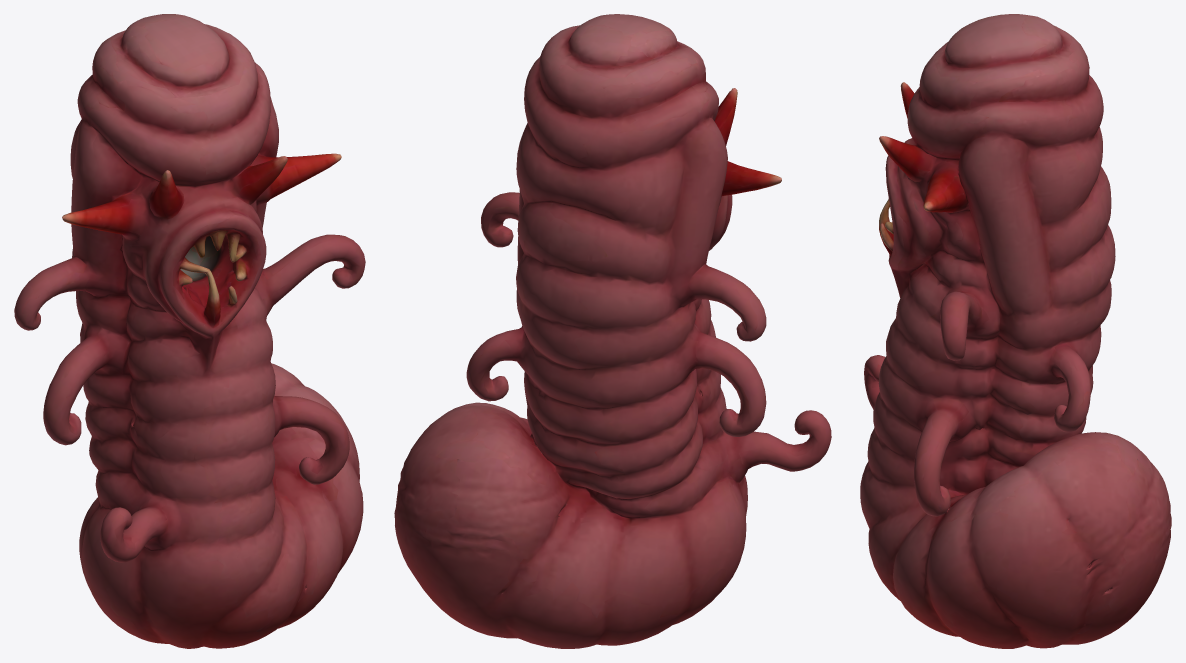
The model's file is SARGG1_2026-08-14T124045.509.glb.
3 views of the same model, side by side, from view 1: azimuth 30°, elevation 25°; view 2: azimuth 150°, elevation 25°; view 3: azimuth 270°, elevation 25° (orthographic). The views are drawn at different scales.
Parts seen in each view (by area): view 1: world; view 2: world; view 3: world.
Part boxes in pixels (x1,y1,x2,y2): world: [14, 14, 365, 648]; world: [394, 14, 831, 648]; world: [860, 14, 1171, 648].
Bounding box in the file's own units: 0.5855 × 1 × 0.4863.
Materials: 1 (1 with a texture image).
